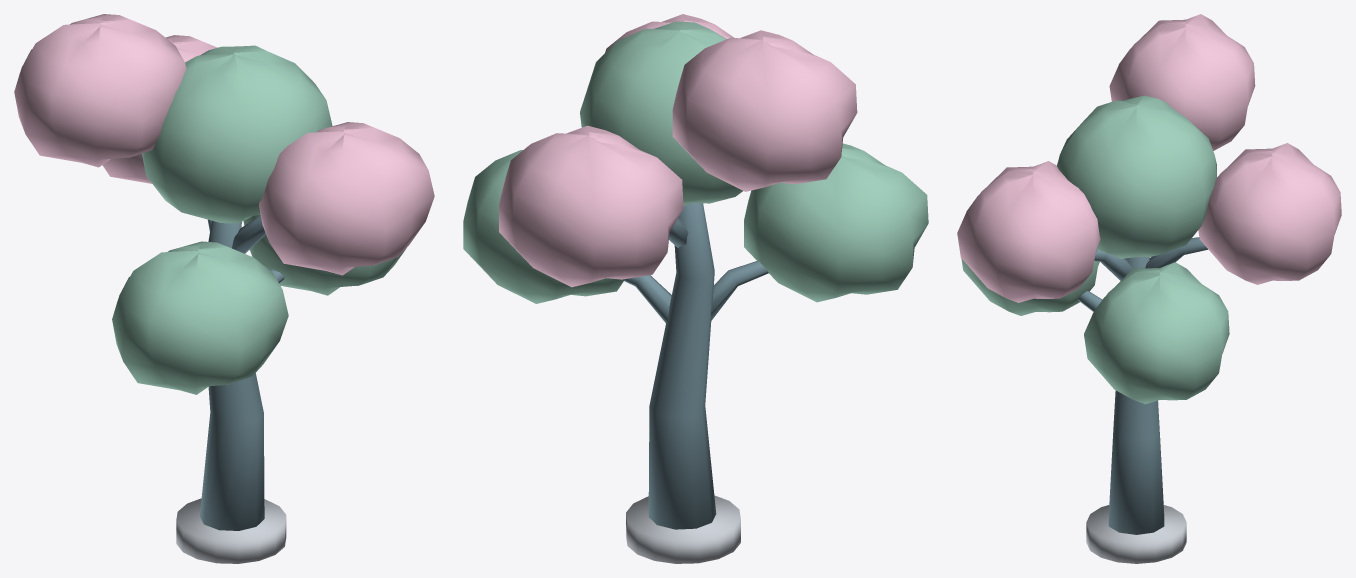
Rendered from can_blush_cherry.glb.
3 views of the same model, side by side, from view 1: azimuth 30°, elevation 25°; view 2: azimuth 150°, elevation 25°; view 3: azimuth 270°, elevation 25° (orthographic). The views are drawn at different scales.
Visible parts, largest first — view 1: CAN_blush_cherry_crown_center, CAN_blush_cherry_crown_3, CAN_blush_cherry_crown_4, CAN_blush_cherry_crown_2, CAN_blush_cherry_trunk, CAN_blush_cherry_root_collar, CAN_blush_cherry_crown_0, CAN_blush_cherry_crown_1, CAN_blush_cherry_branch_4; view 2: CAN_blush_cherry_crown_1, CAN_blush_cherry_crown_2, CAN_blush_cherry_crown_3, CAN_blush_cherry_trunk, CAN_blush_cherry_crown_center, CAN_blush_cherry_crown_0, CAN_blush_cherry_root_collar, CAN_blush_cherry_branch_3, CAN_blush_cherry_branch_0, CAN_blush_cherry_crown_4; view 3: CAN_blush_cherry_crown_center, CAN_blush_cherry_crown_0, CAN_blush_cherry_crown_1, CAN_blush_cherry_crown_4, CAN_blush_cherry_crown_2, CAN_blush_cherry_trunk, CAN_blush_cherry_root_collar, CAN_blush_cherry_crown_3, CAN_blush_cherry_branch_1, CAN_blush_cherry_branch_4.
Boxes of the visible parts, bbox=[...] form: CAN_blush_cherry_crown_center: bbox=[142, 45, 332, 223]; CAN_blush_cherry_crown_3: bbox=[112, 241, 288, 394]; CAN_blush_cherry_crown_4: bbox=[259, 122, 434, 275]; CAN_blush_cherry_crown_2: bbox=[14, 14, 186, 167]; CAN_blush_cherry_trunk: bbox=[200, 220, 264, 530]; CAN_blush_cherry_root_collar: bbox=[176, 498, 286, 563]; CAN_blush_cherry_crown_0: bbox=[243, 215, 406, 295]; CAN_blush_cherry_crown_1: bbox=[102, 35, 217, 183]; CAN_blush_cherry_branch_4: bbox=[232, 215, 265, 253]; CAN_blush_cherry_crown_1: bbox=[499, 125, 683, 287]; CAN_blush_cherry_crown_2: bbox=[672, 30, 857, 191]; CAN_blush_cherry_crown_3: bbox=[744, 143, 928, 302]; CAN_blush_cherry_trunk: bbox=[648, 202, 716, 529]; CAN_blush_cherry_crown_center: bbox=[580, 21, 742, 205]; CAN_blush_cherry_crown_0: bbox=[463, 150, 624, 303]; CAN_blush_cherry_root_collar: bbox=[626, 495, 740, 563]; CAN_blush_cherry_branch_3: bbox=[711, 261, 768, 320]; CAN_blush_cherry_branch_0: bbox=[624, 275, 671, 322]; CAN_blush_cherry_crown_4: bbox=[605, 14, 734, 52]; CAN_blush_cherry_crown_center: bbox=[1057, 95, 1216, 258]; CAN_blush_cherry_crown_0: bbox=[1084, 262, 1229, 404]; CAN_blush_cherry_crown_1: bbox=[1198, 143, 1341, 284]; CAN_blush_cherry_crown_4: bbox=[957, 161, 1100, 302]; CAN_blush_cherry_crown_2: bbox=[1109, 14, 1255, 150]; CAN_blush_cherry_trunk: bbox=[1108, 257, 1164, 534]; CAN_blush_cherry_root_collar: bbox=[1086, 505, 1186, 563]; CAN_blush_cherry_crown_3: bbox=[961, 258, 1099, 315]; CAN_blush_cherry_branch_1: bbox=[1145, 237, 1207, 268]; CAN_blush_cherry_branch_4: bbox=[1094, 249, 1132, 280].
Bounding box in the file's own units: 2.55 × 3.45 × 2.53.
